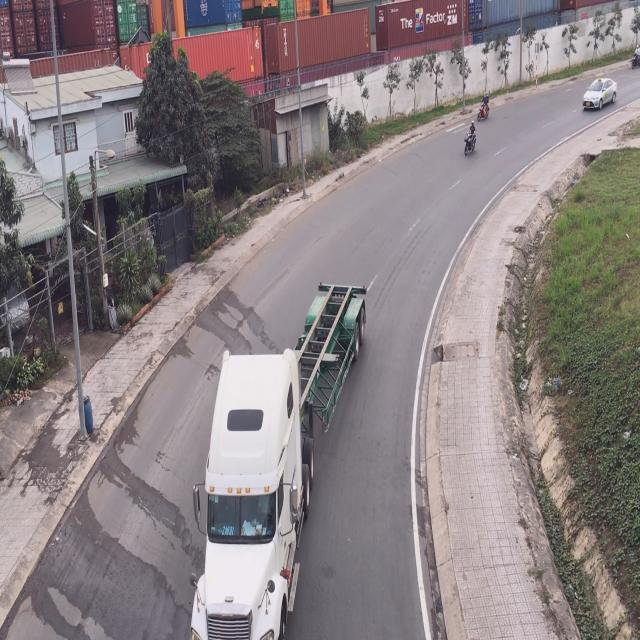car: (582, 77, 616, 113)
motorbike: (462, 120, 476, 158), (479, 89, 491, 123)
truck: (187, 278, 366, 640)
